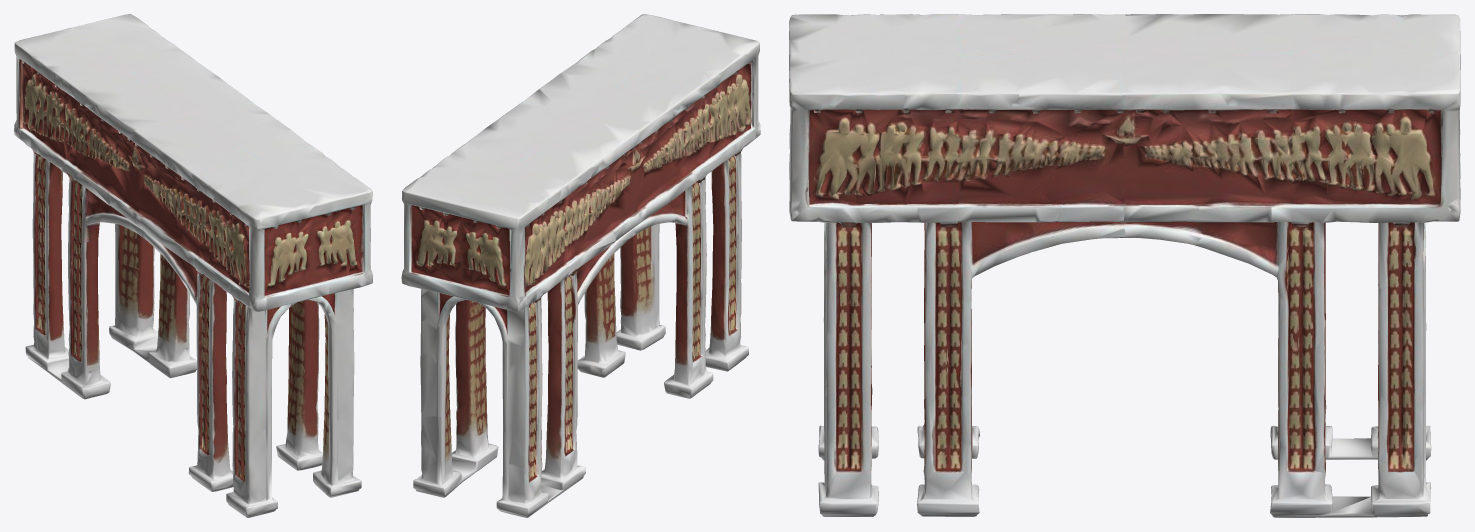
The model's file is porte.glb.
3 views of the same model, side by side, from view 1: azimuth 30°, elevation 25°; view 2: azimuth 150°, elevation 25°; view 3: azimuth 270°, elevation 25° (orthographic). The views are drawn at different scales.
Parts seen in each view (by area): view 1: tripo_node_72d3a909-c524-424a-8e50-98a6a91056ce; view 2: tripo_node_72d3a909-c524-424a-8e50-98a6a91056ce; view 3: tripo_node_72d3a909-c524-424a-8e50-98a6a91056ce.
Boxes of the visible parts, <box> form: tripo_node_72d3a909-c524-424a-8e50-98a6a91056ce: <box>14,14,372,517</box>; tripo_node_72d3a909-c524-424a-8e50-98a6a91056ce: <box>401,14,760,517</box>; tripo_node_72d3a909-c524-424a-8e50-98a6a91056ce: <box>789,14,1460,517</box>.
Bounding box in the file's own units: 0.2852 × 0.7025 × 0.9999.
Materials: 1 (1 with a texture image).
